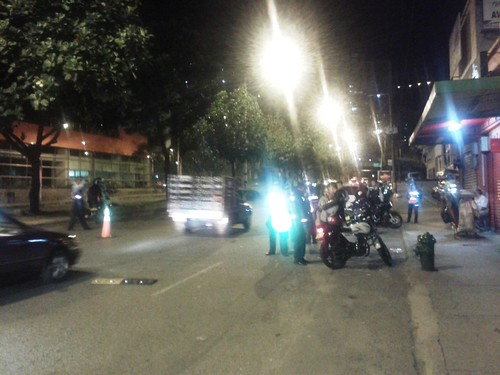car: (167, 173, 247, 234)
motorcycle: (326, 224, 390, 267)
sidewalk: (399, 195, 500, 375)
street: (16, 221, 409, 369)
traffic cone: (97, 205, 114, 241)
tree: (1, 1, 158, 210), (206, 88, 268, 189)
